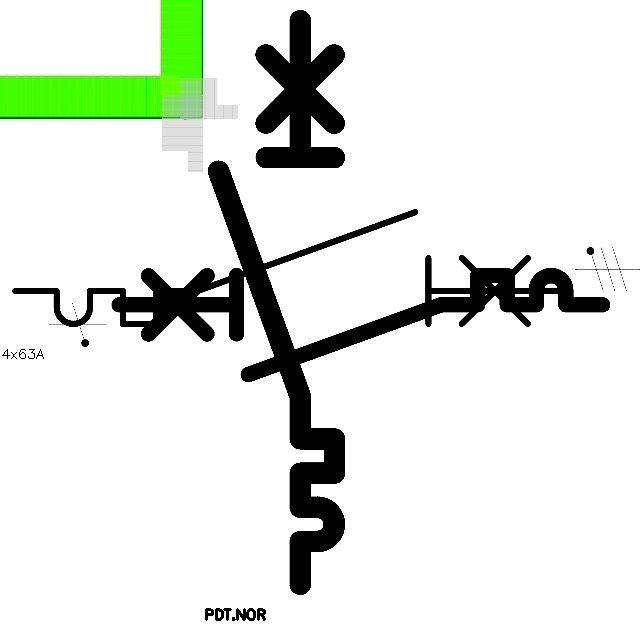interruptor_termomagnetico: (204, 6, 349, 599), (1, 198, 575, 338), (106, 263, 615, 387)
